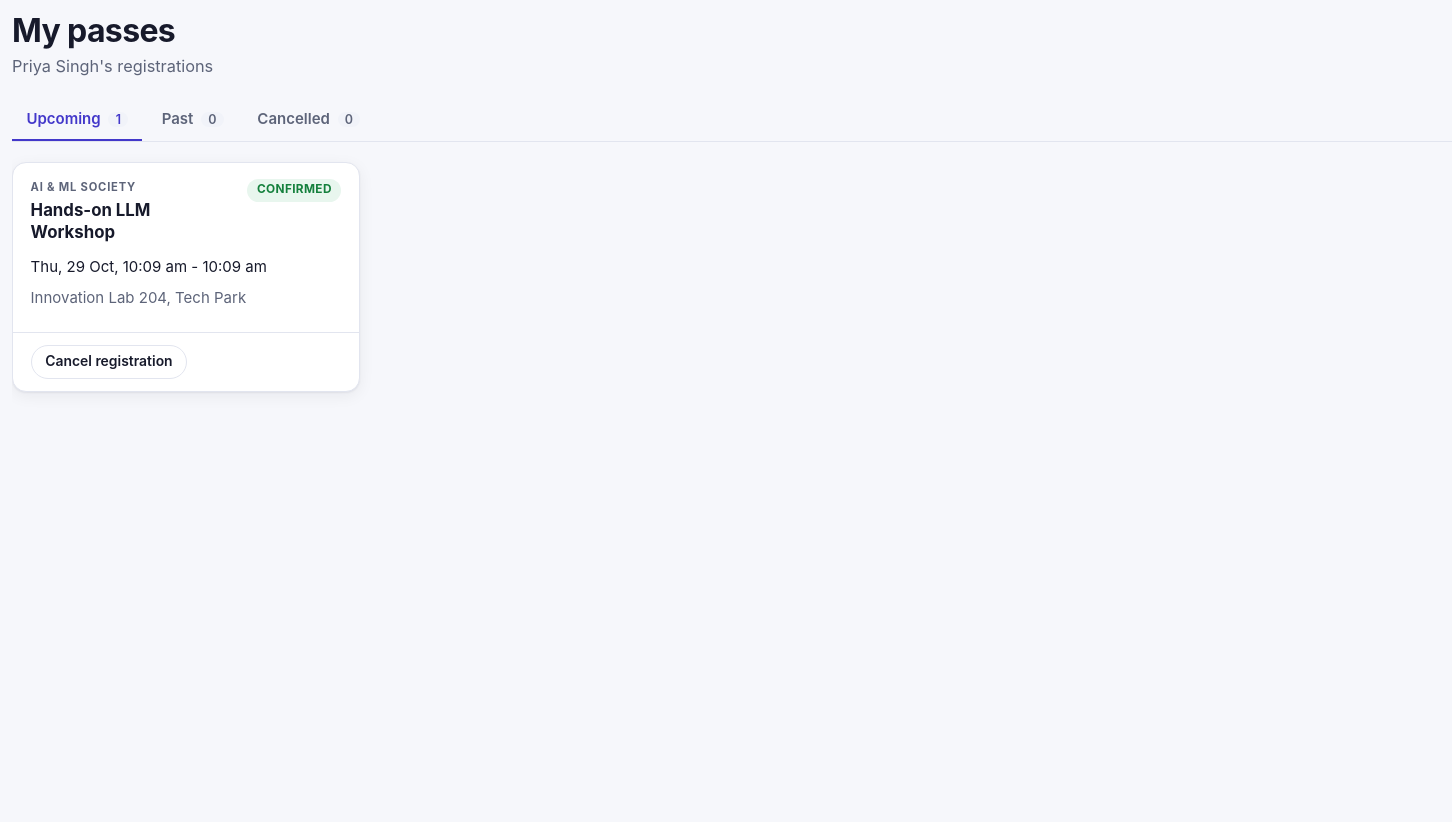
Test case: MyPassesPage › FS-T15 after a successful cancel the list is re-fetched from the server
Check: the link "Hands-on LLM Workshop" is shown, box [31,200,150,242]
Click the button "Cancel registration" at (109, 362), box [31,345,187,379]
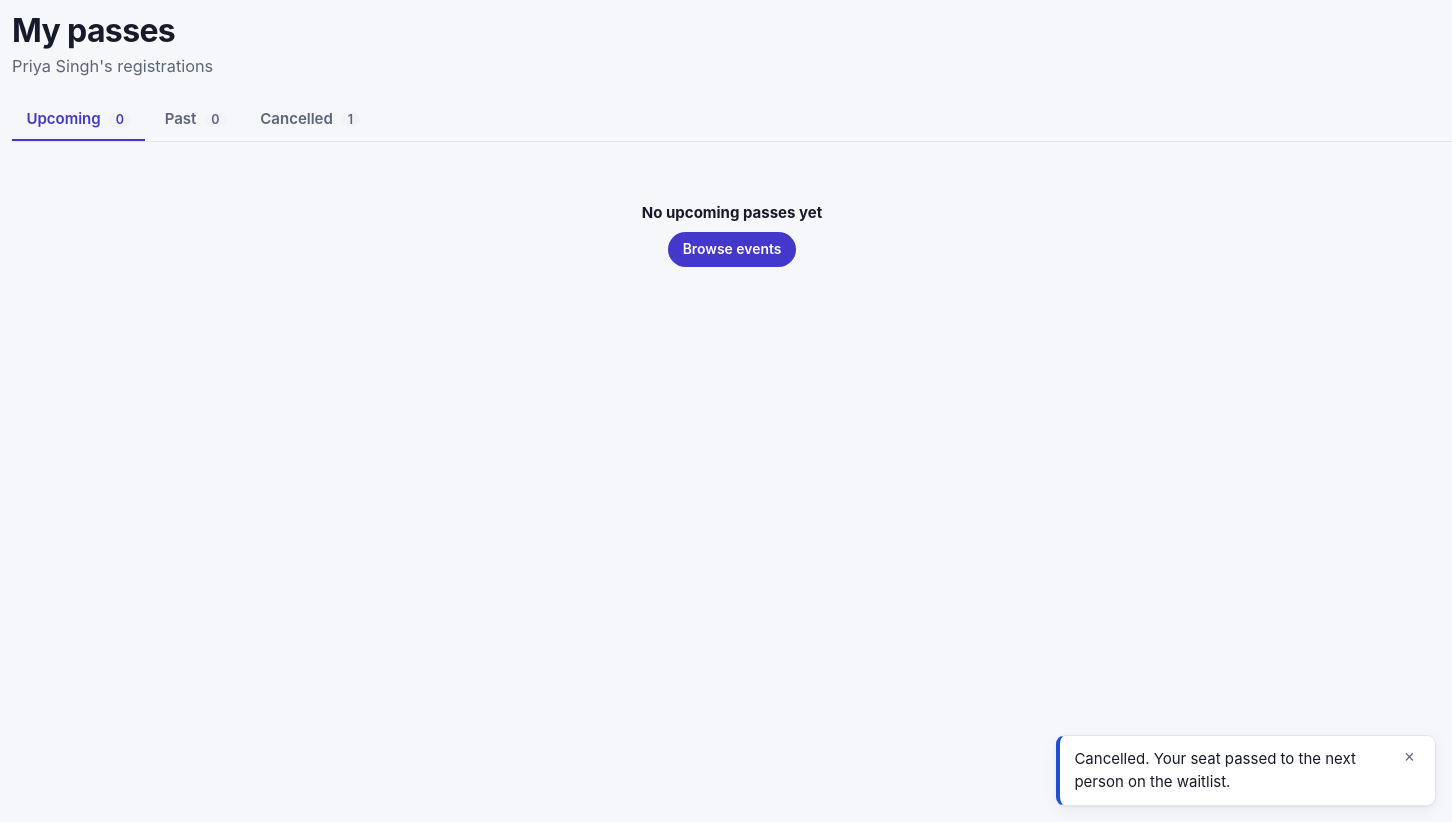
Check: the text "Your seat passed to the next person" is shown, box [1074,749,1356,790]
